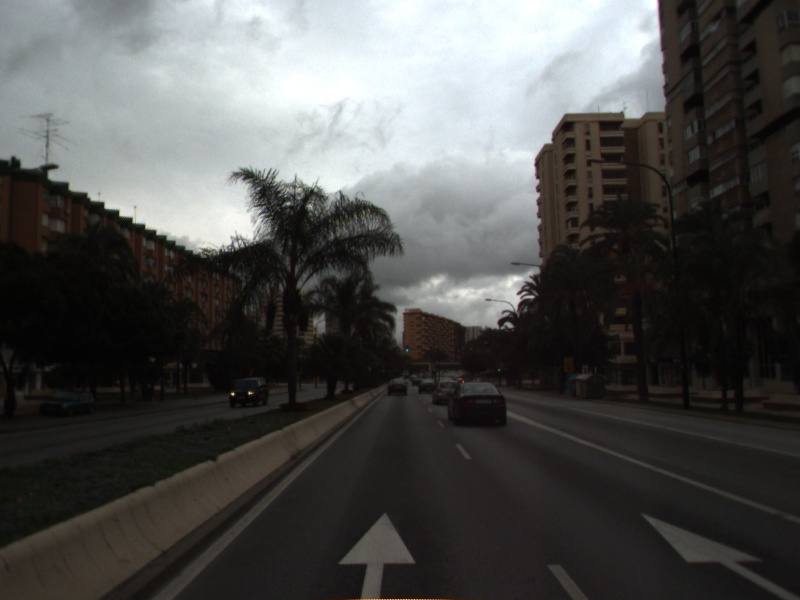STRAIGHT: (636, 509, 799, 600), (334, 508, 420, 600)
